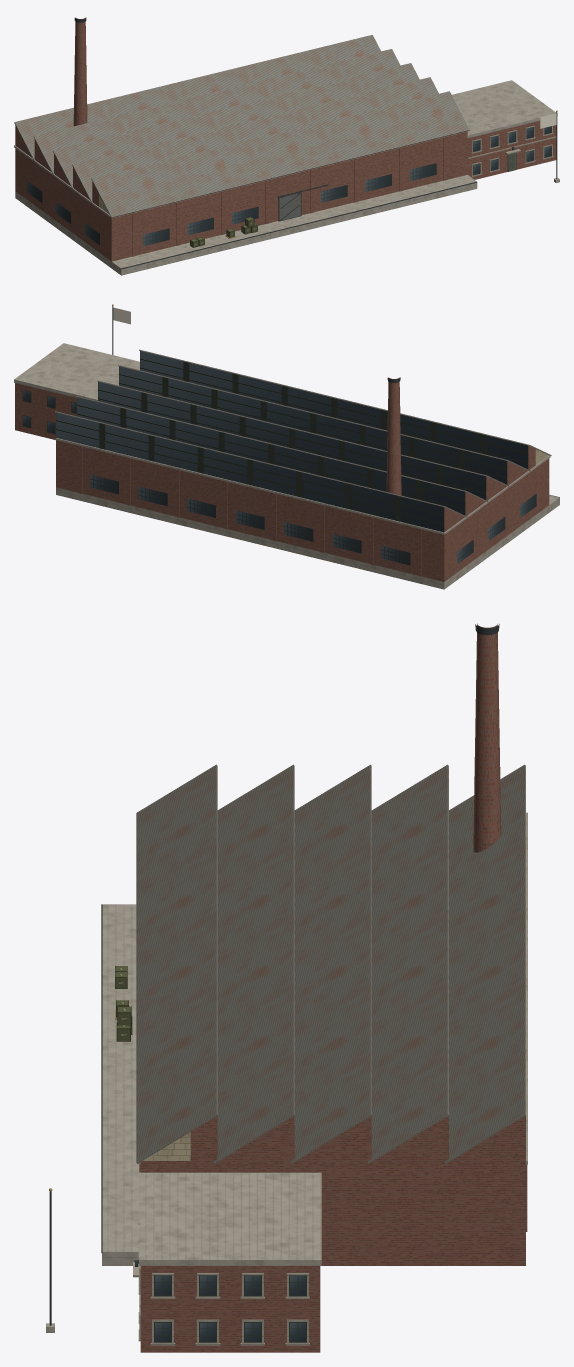
Rendered from arsenal.glb.
3 views of the same model, one above another, from view 1: azimuth 30°, elevation 25°; view 2: azimuth 150°, elevation 25°; view 3: azimuth 270°, elevation 25° (orthographic). The views are drawn at different scales.
Visible parts, largest first — view 1: murs, bureaux, quai, porte; view 2: murs, bureaux; view 3: murs, bureaux, quai.
Part boxes in pixels (box(x1,y1,x2,y2)): murs: box(14, 17, 469, 268); bureaux: box(452, 80, 557, 179); quai: box(111, 175, 477, 275); porte: box(278, 191, 301, 221); murs: box(55, 349, 551, 589); bureaux: box(14, 343, 139, 439); murs: box(136, 623, 527, 1265); bureaux: box(133, 1172, 321, 1352); quai: box(101, 904, 139, 1265).
Bounding box in the file's own units: 80.35 × 30 × 37.5.
12 materials, 10 textured.
